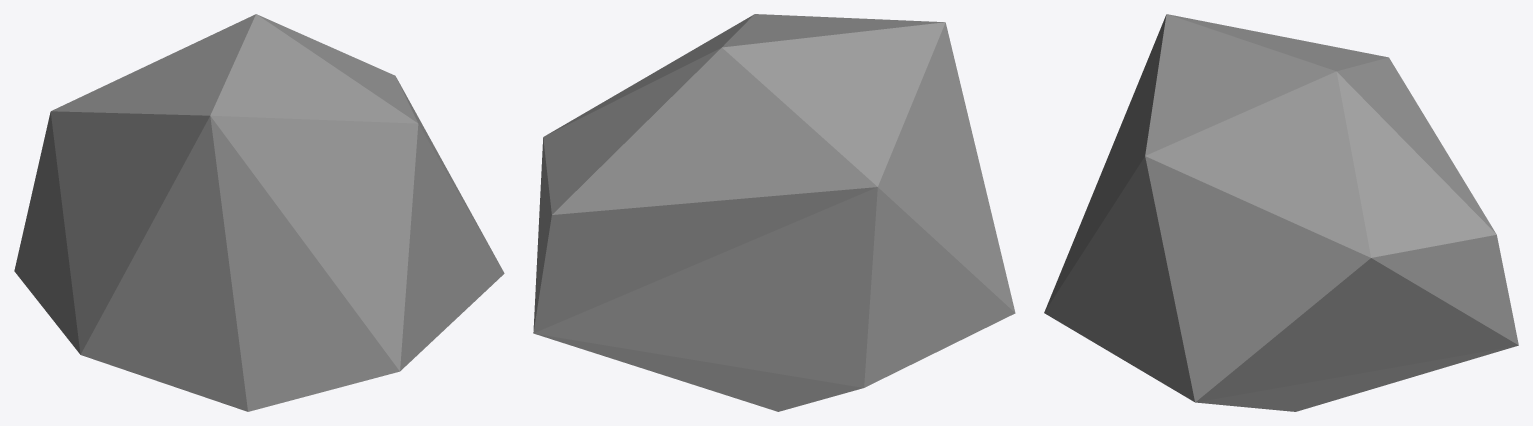
The model's file is Rock4.obj.
3 views of the same model, side by side, from view 1: azimuth 30°, elevation 25°; view 2: azimuth 150°, elevation 25°; view 3: azimuth 270°, elevation 25° (orthographic). The views are drawn at different scales.
Parts seen in each view (by area): view 1: Icosphere.001; view 2: Icosphere.001; view 3: Icosphere.001.
Boxes of the visible parts, left/top/right/bottom form: Icosphere.001: left=14, top=14, right=504, bottom=411; Icosphere.001: left=533, top=14, right=1015, bottom=411; Icosphere.001: left=1044, top=14, right=1518, bottom=411.
Bounding box in the file's own units: 1.28 × 1.09 × 1.31.
Materials: 1 (1 with a texture image).
